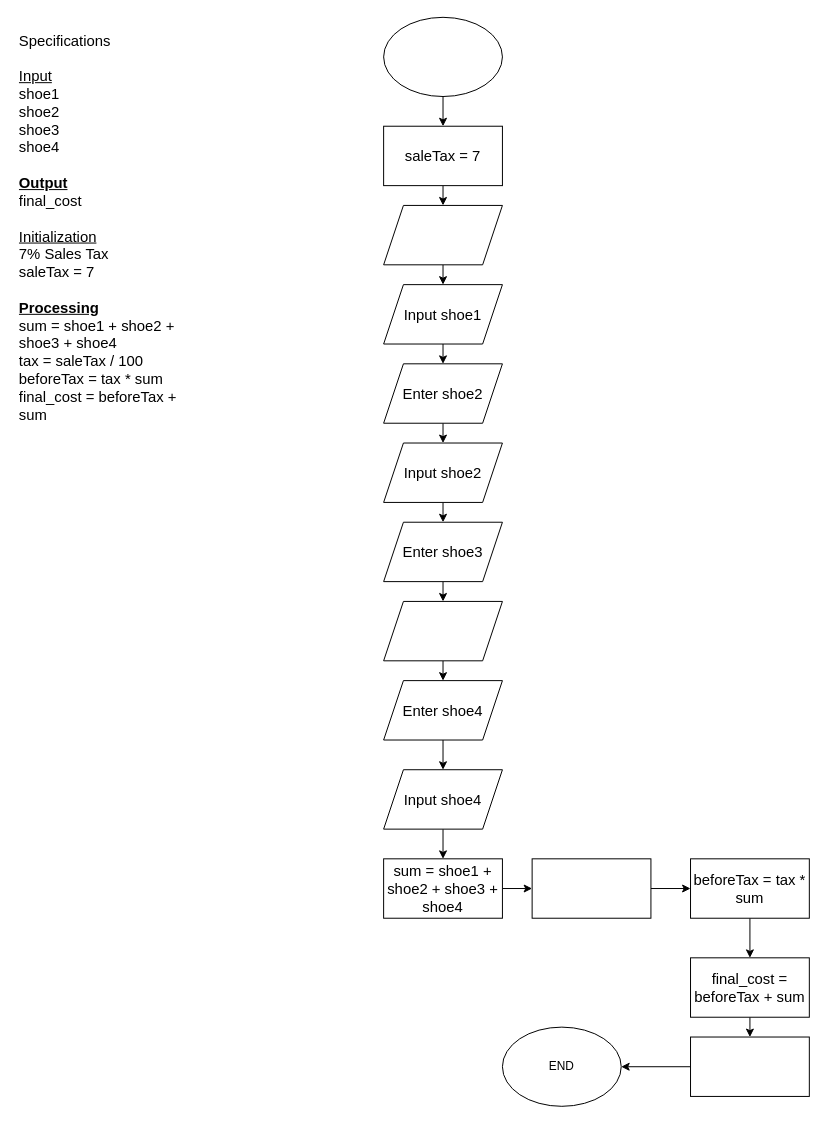
This 827x1124 diagram has some shape labels left out. The centre of each missing label's shape, as x and y in pixels:
display final_cost: point (749, 1066)
Enter shoe1: point (442, 234)
Input shoe3: point (442, 630)
START: point (442, 56)
tax = saleTax / 100: point (591, 888)
